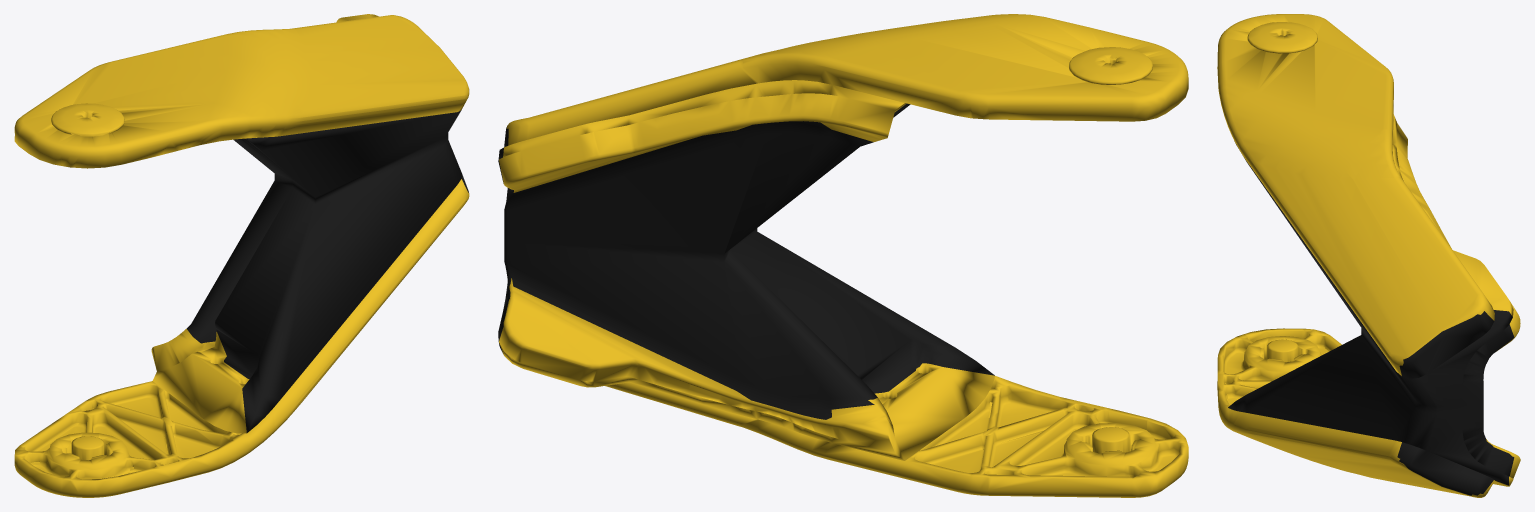
Rendered from arm0.link_fngr.glb.
3 views of the same model, side by side, from view 1: azimuth 30°, elevation 25°; view 2: azimuth 150°, elevation 25°; view 3: azimuth 270°, elevation 25° (orthographic). The views are drawn at different scales.
Parts seen in each view (by area): view 1: arm0.link_fngr; view 2: arm0.link_fngr; view 3: arm0.link_fngr.
Part boxes in pixels (box(x1,y1,x2,y2)): arm0.link_fngr: box(14, 14, 469, 497); arm0.link_fngr: box(498, 14, 1188, 497); arm0.link_fngr: box(1217, 14, 1520, 497).
Size of the model in its own units: 0.1415 by 0.097 by 0.0771.
